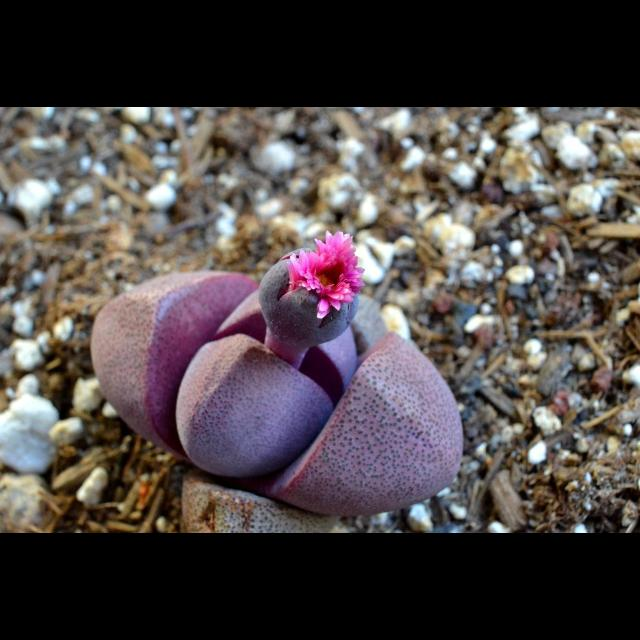Flower: (268, 228, 366, 340)
